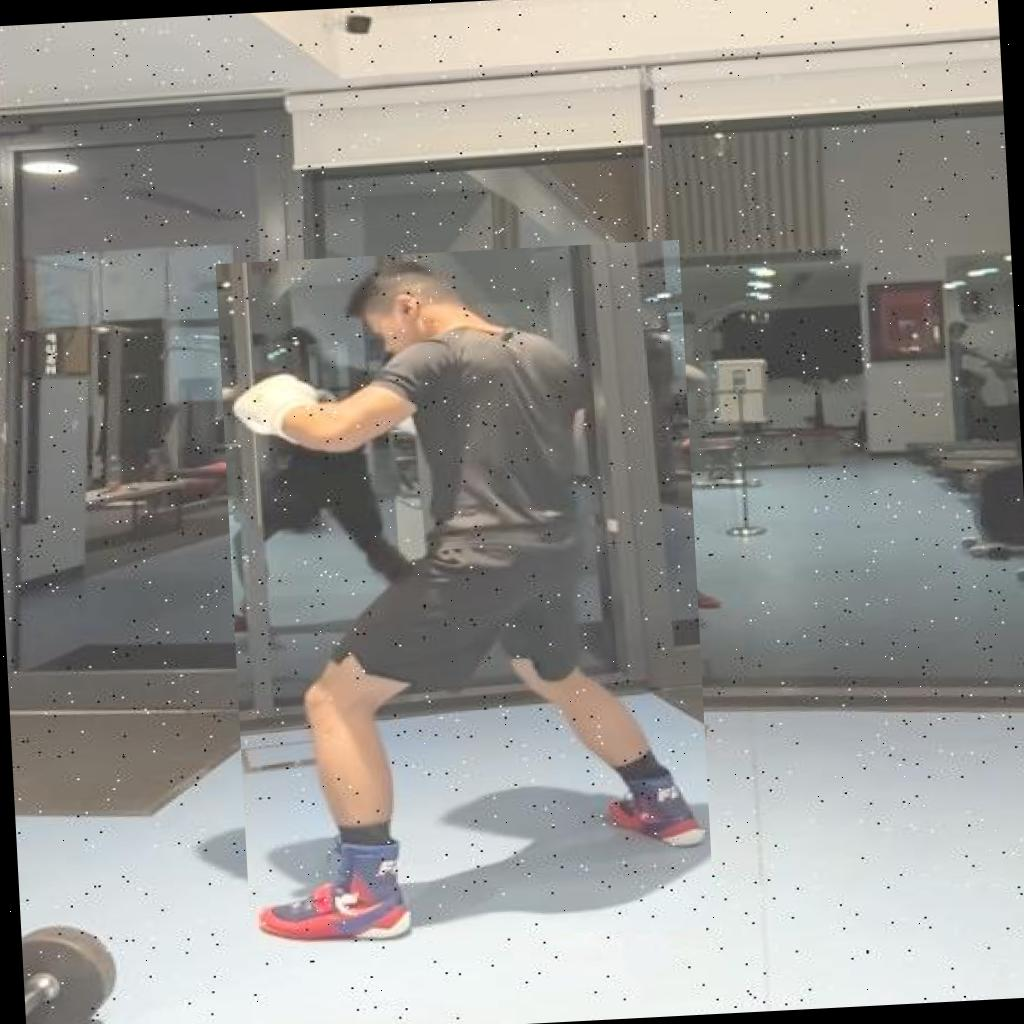hook: (216, 240, 715, 950)
